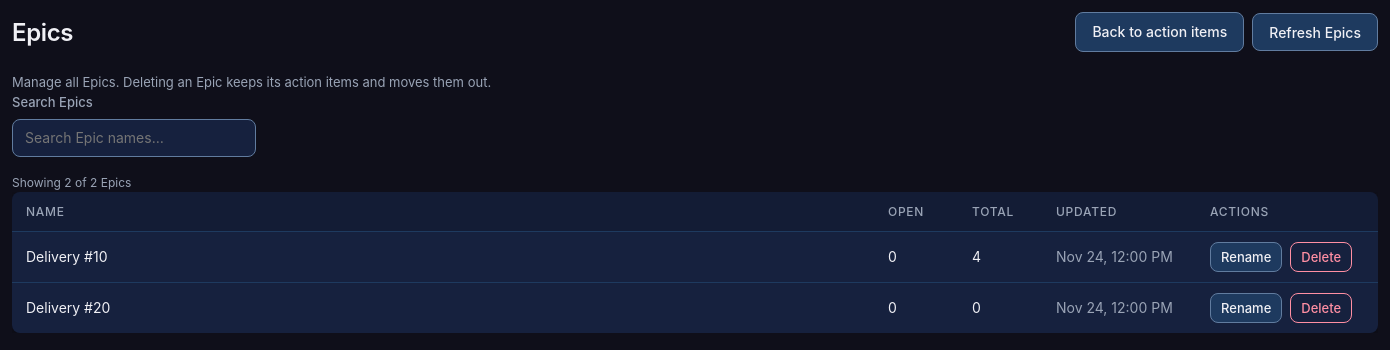
Test: distinguishes duplicate names and confirms keeping children before one revision/cohort-checked delete
The image size is (1390, 350).
Click the button with aria-label "Delete Epic Delivery #10". click: (1321, 257)
box: x1=1290 y1=242 x2=1352 y2=272
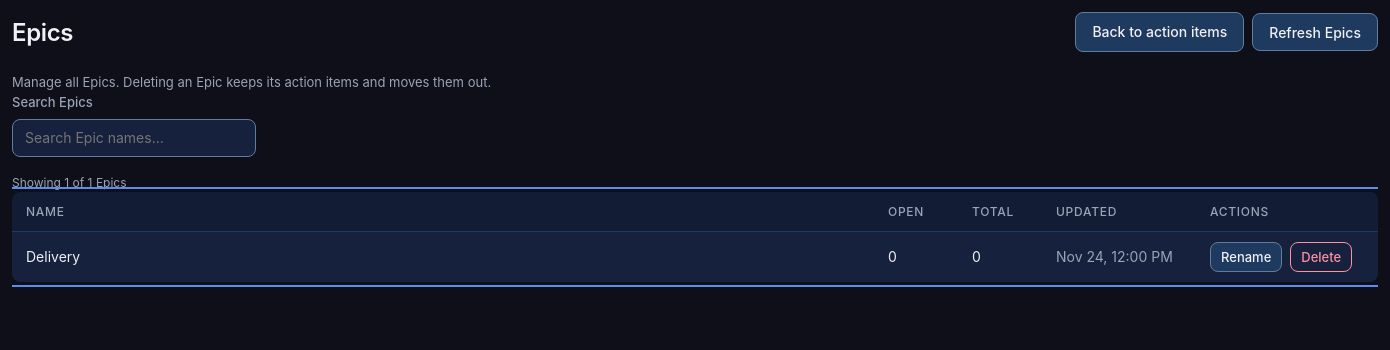
Expected: the text "Delivery" is shown, x1=12 y1=232 x2=874 y2=282
Now the text "Delivery #10" is gone
